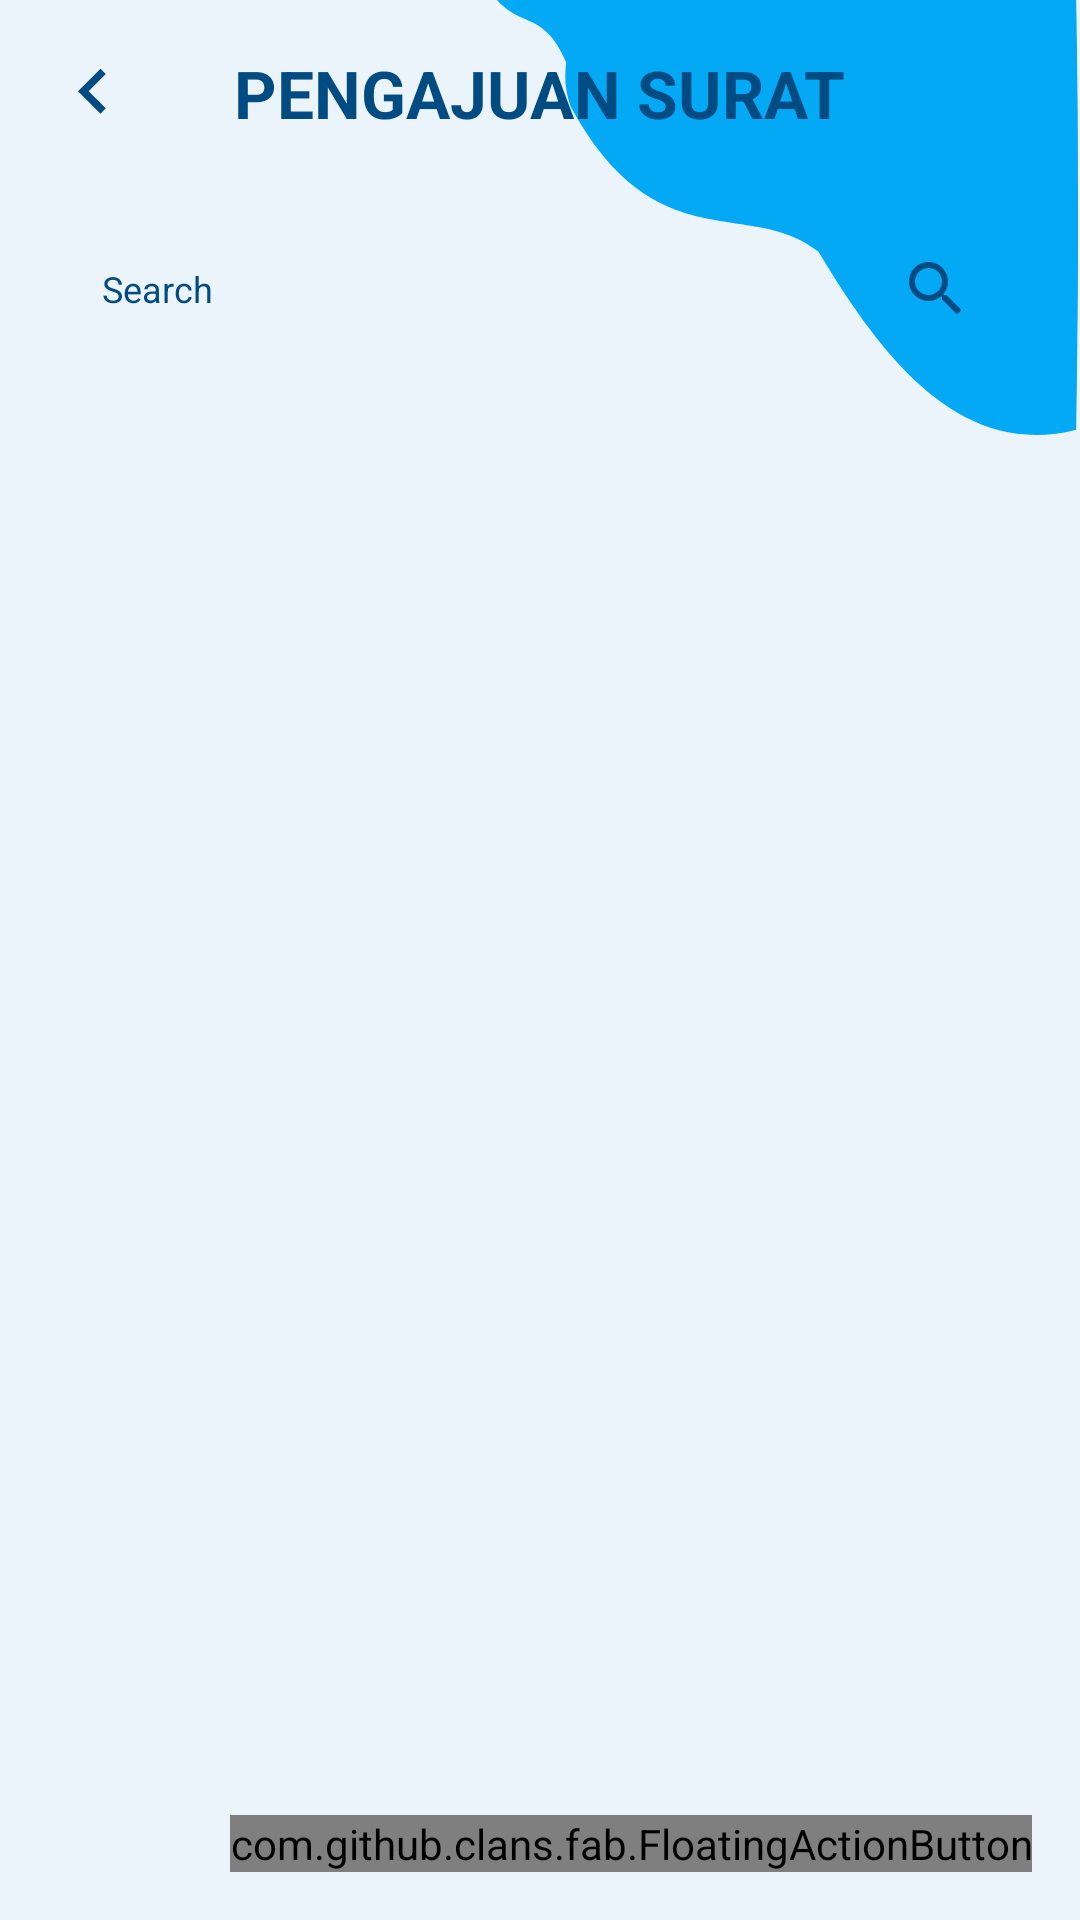

Where to tap for icons on this 1080×1920 app screen, as (x,y):
keyboard arrow left: (92,91)
search: (935,288)
